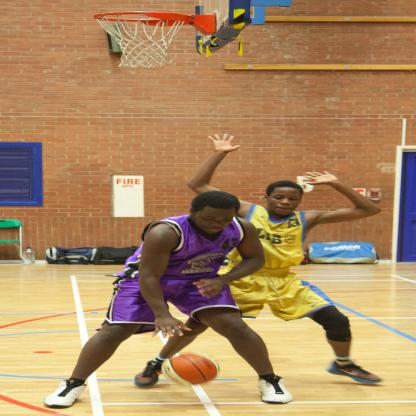Ball: (160, 350, 221, 386)
